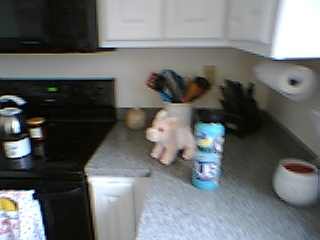piggy: (143, 109, 195, 167)
